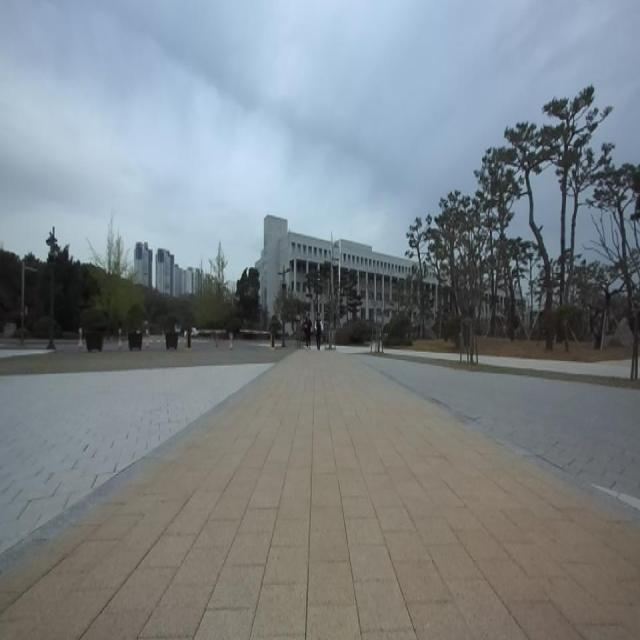sidewalk: (0, 351, 640, 639), (480, 355, 632, 377), (384, 348, 461, 360), (339, 347, 370, 353)
